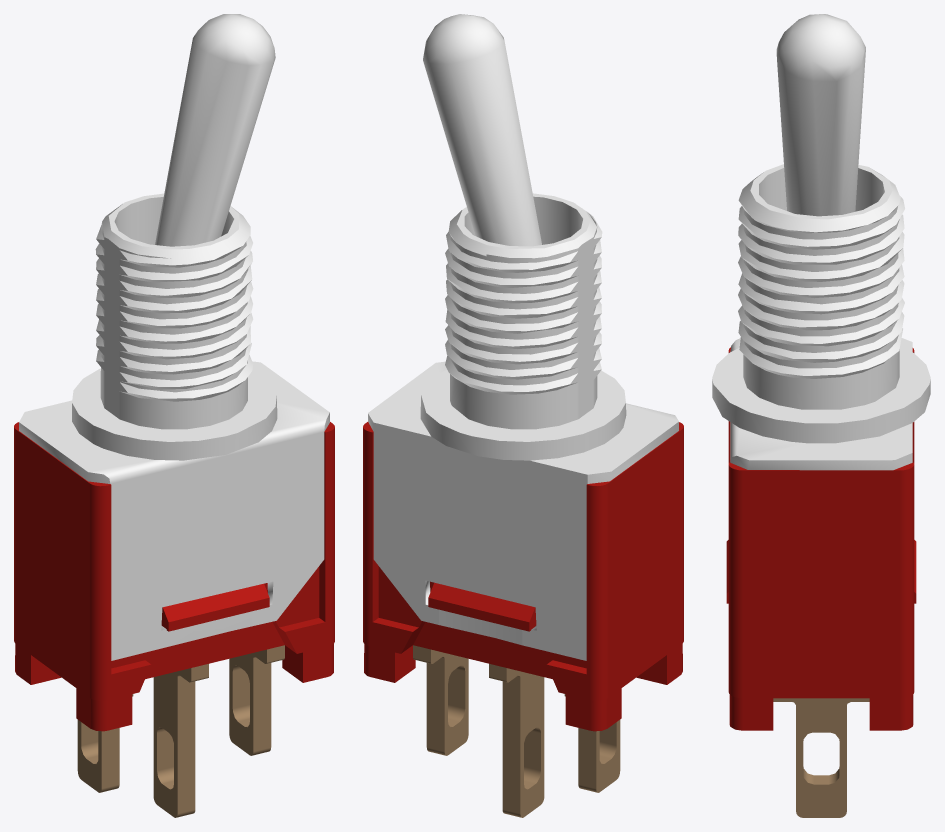
Rendered from toggle.glb.
The picture shows the model from 3 angles, left to right: view 1: azimuth 30°, elevation 25°; view 2: azimuth 150°, elevation 25°; view 3: azimuth 270°, elevation 25°; orthographic projection. The views are drawn at different scales.
Parts seen in each view (by area): view 1: Solid2, Solid1, Solid3; view 2: Solid2, Solid1, Solid3; view 3: Solid2, Solid1, Solid3.
Part boxes in pixels (left/top/right/bottom): Solid2: left=19, top=14, right=329, bottom=660; Solid1: left=14, top=422, right=334, bottom=731; Solid3: left=77, top=645, right=284, bottom=817; Solid2: left=368, top=14, right=678, bottom=660; Solid1: left=363, top=422, right=683, bottom=731; Solid3: left=413, top=645, right=620, bottom=817; Solid2: left=712, top=14, right=930, bottom=470; Solid1: left=726, top=347, right=916, bottom=730; Solid3: left=773, top=698, right=869, bottom=817.
Size of the model in its own units: 0.0082 by 0.025 by 0.006.
